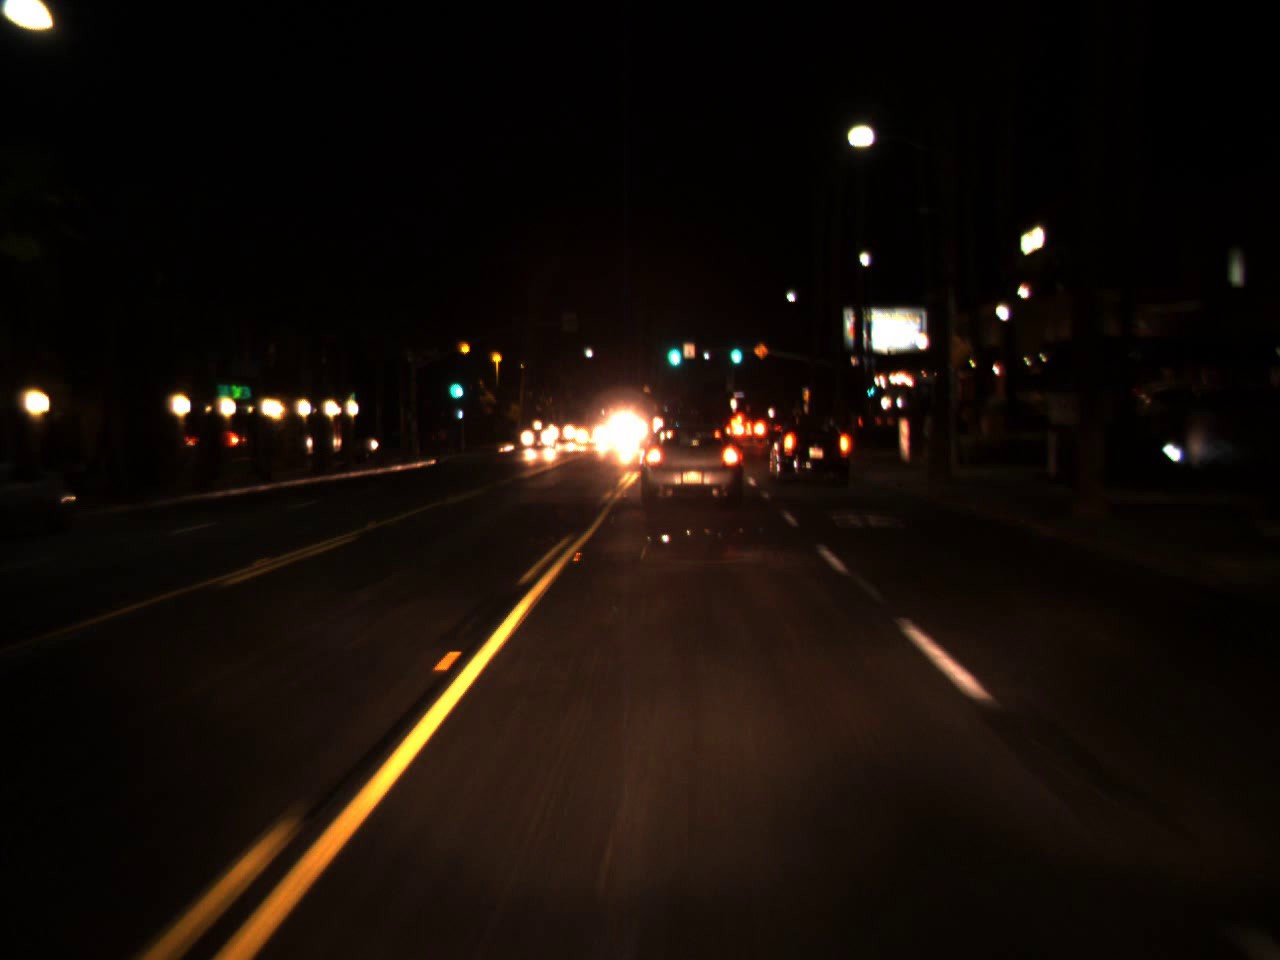go: (665, 327, 683, 372), (447, 363, 461, 405), (727, 335, 743, 365)
